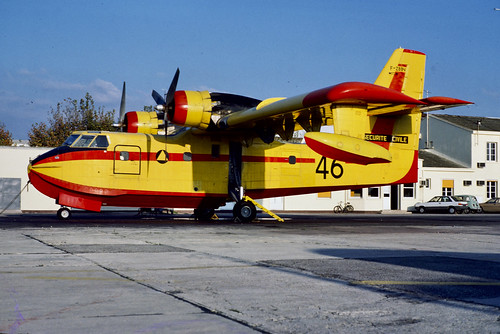Aeronef_de_service: (19, 42, 479, 236)
